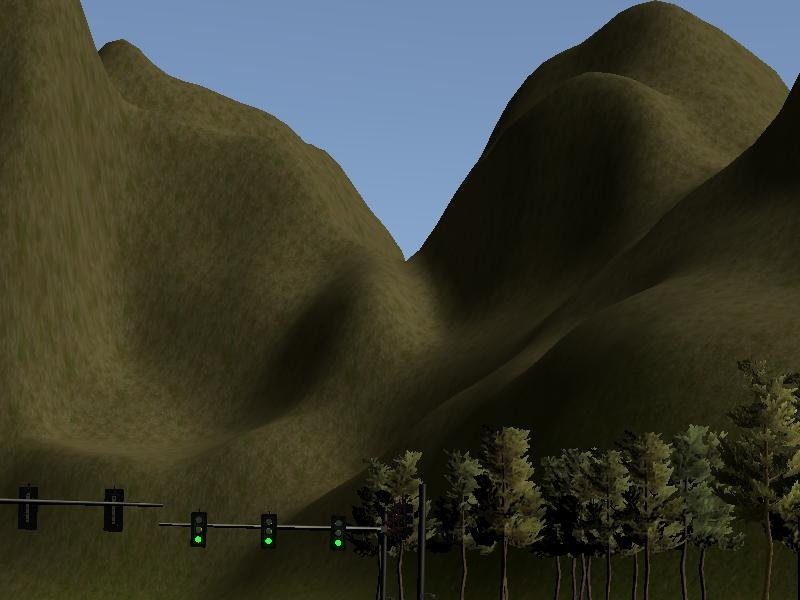green: (261, 515, 278, 551), (189, 514, 206, 546), (331, 515, 346, 550)
